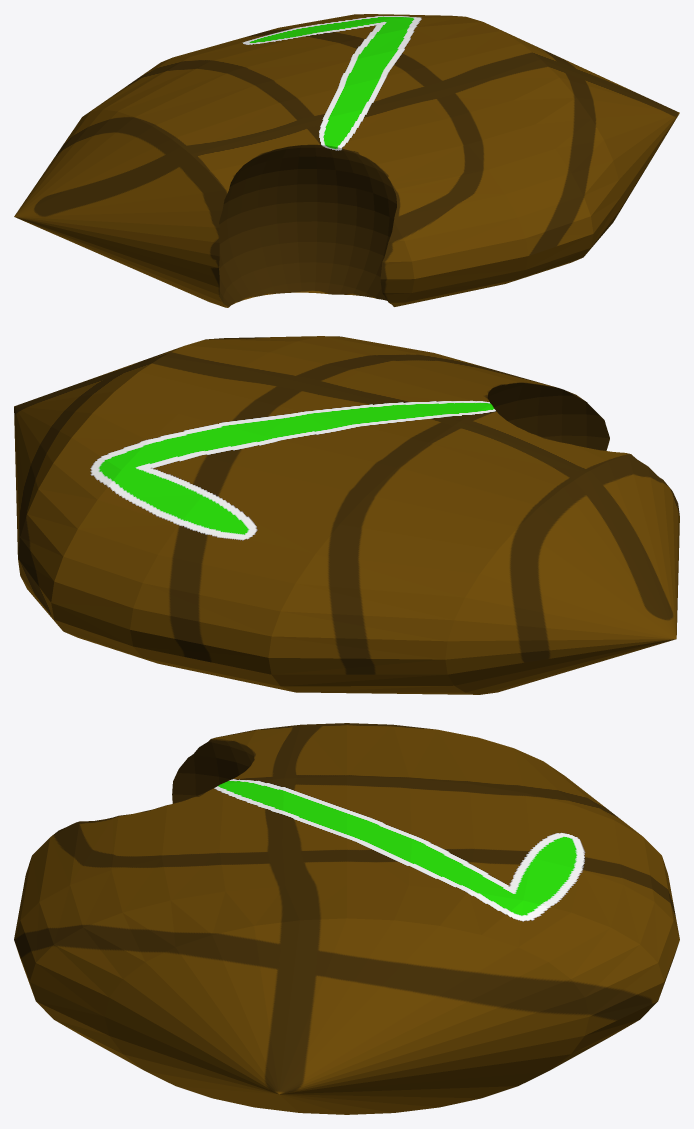
The model's file is brokenBlock.obj.
The picture shows the model from 3 angles, top to bottom: view 1: azimuth 30°, elevation 25°; view 2: azimuth 150°, elevation 25°; view 3: azimuth 270°, elevation 25°; orthographic projection. The views are drawn at different scales.
Visible parts, largest first — view 1: 円柱; view 2: 円柱; view 3: 円柱.
Boxes of the visible parts, box(x1,y1,x2,y2) form: 円柱: box(14, 14, 679, 307); 円柱: box(14, 336, 679, 694); 円柱: box(14, 723, 679, 1114).
Size of the model in its own units: 1.43 by 0.3646 by 1.12.
